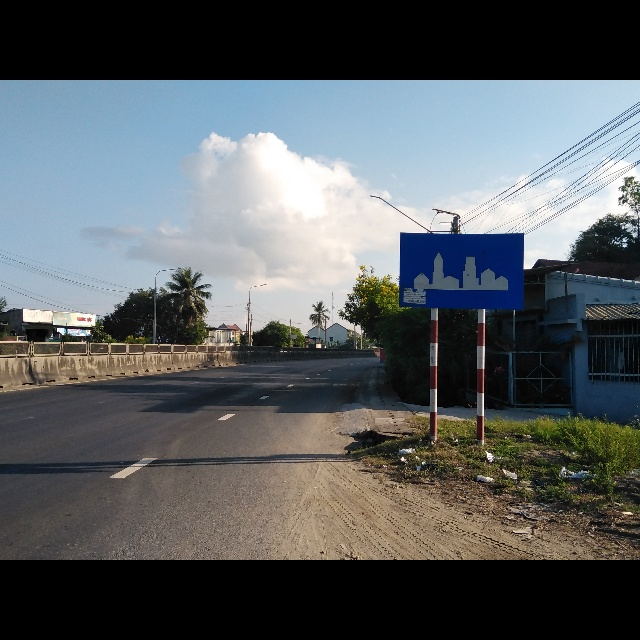Khu đông dân cư: (399, 231, 526, 311)
